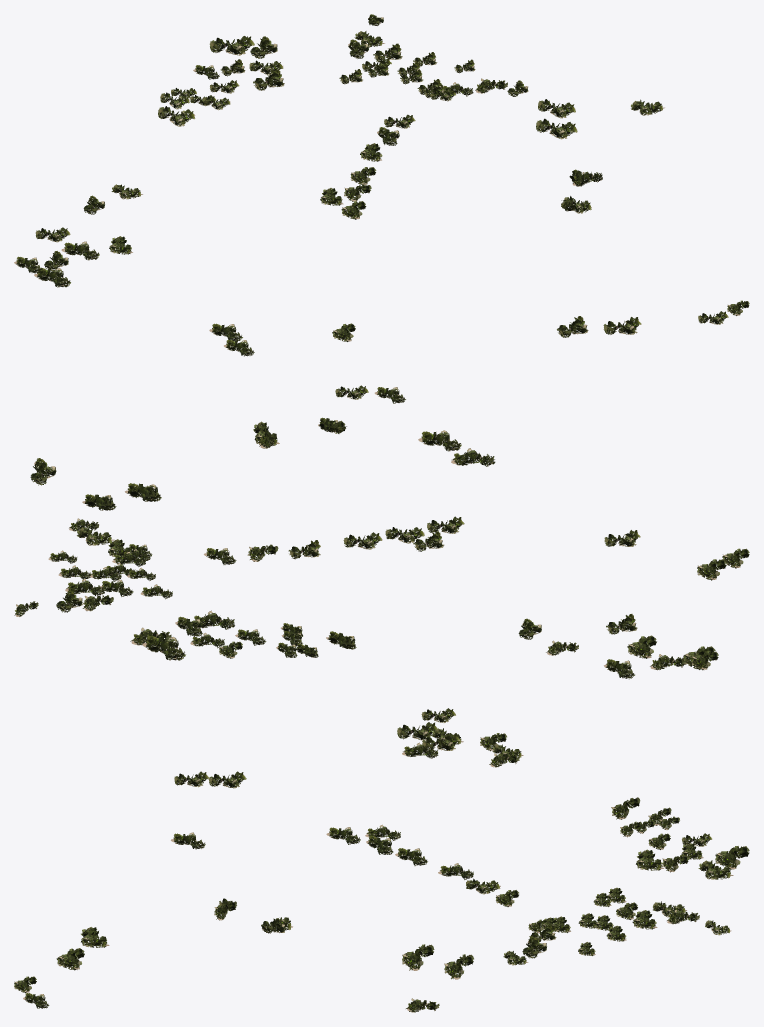
Rendered from Arbustos01.glb.
The picture shows the model from 3 angles, top to bottom: view 1: azimuth 30°, elevation 25°; view 2: azimuth 150°, elevation 25°; view 3: azimuth 270°, elevation 25°; orthographic projection. The views are drawn at different scales.
Visible parts, largest first — view 1: temp_mesh.ply.933; view 2: temp_mesh.ply.933; view 3: temp_mesh.ply.933.
Part boxes in pixels (<box>): temp_mesh.ply.933: <box>14,14,749,356</box>; temp_mesh.ply.933: <box>14,385,749,679</box>; temp_mesh.ply.933: <box>14,708,749,1012</box>.
Bounding box in the file's own units: 102 × 11.83 × 99.94.
1 material, 1 textured.
